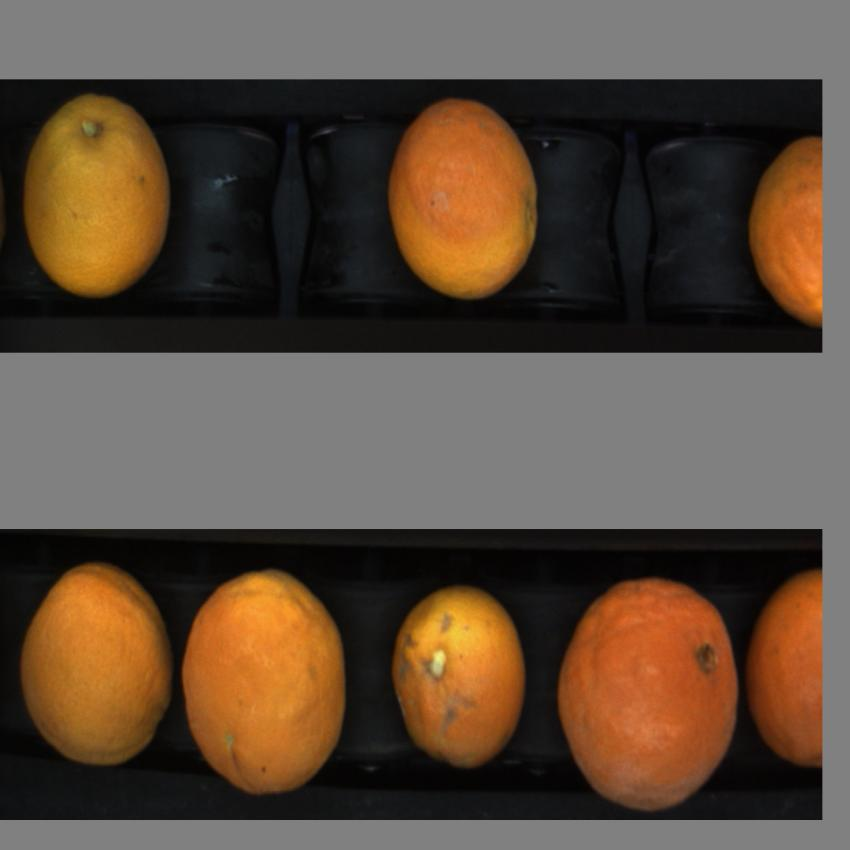Buen estado: (556, 584, 740, 812), (181, 571, 350, 801), (13, 566, 177, 778), (21, 88, 174, 302), (386, 103, 544, 309), (737, 123, 824, 339), (745, 567, 825, 768)
Mal estado: (387, 574, 531, 778)
